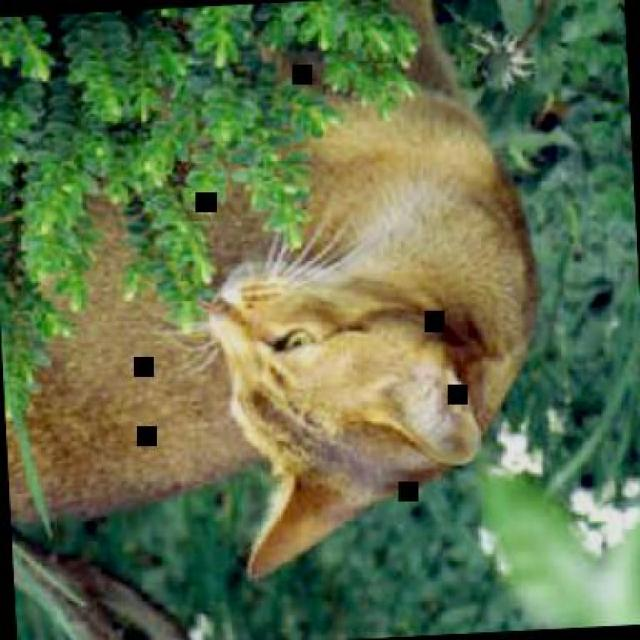cat: (0, 0, 552, 595)
